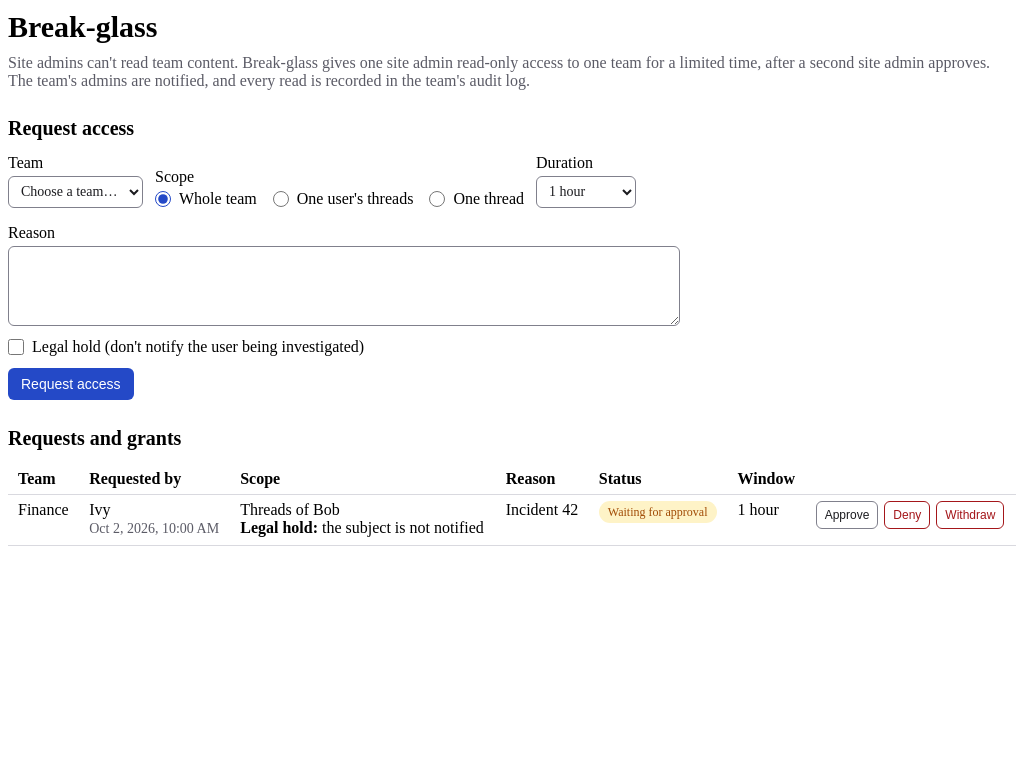
Test case: site break-glass page › shows the legal-hold note and the no-team-admin warning after approval
Expected: the text "Incident 42" shows "Legal hold: the subject is not notified", [8,494,1016,545]
Click the button "Approve". click: (847,514)
box: [816,500,878,528]
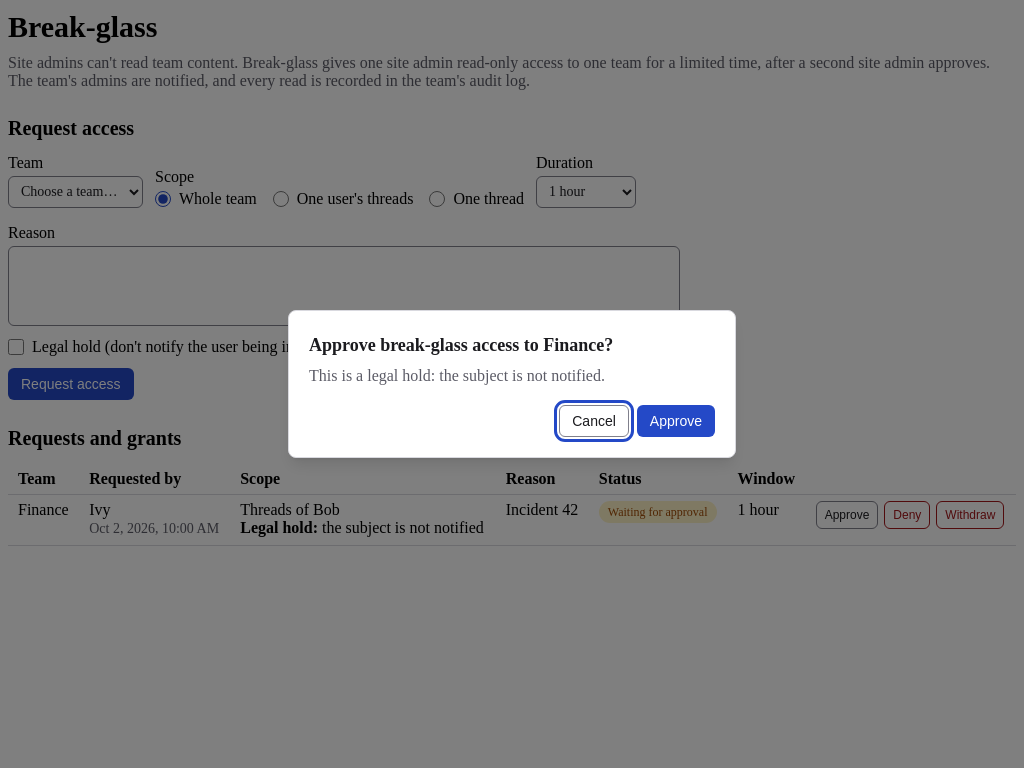
Click the button "Approve". click: (676,421)
box: [637,405,715,437]
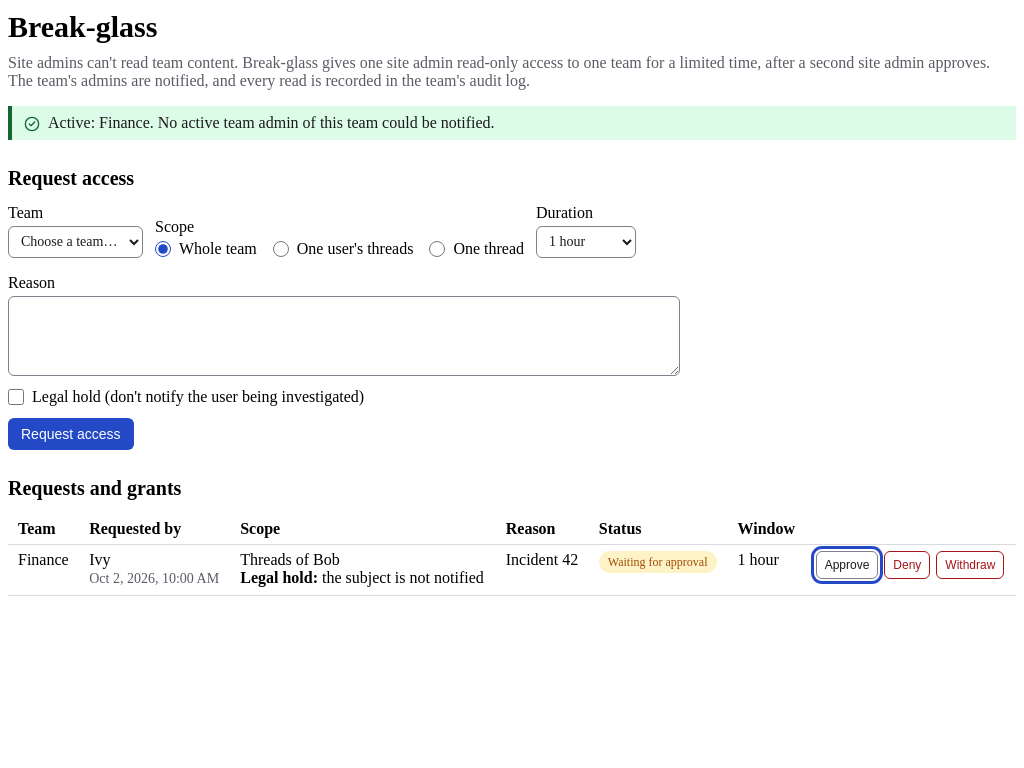
Now the text "No active team admin of this team could be notified" is shown, box [48,114,494,130]
